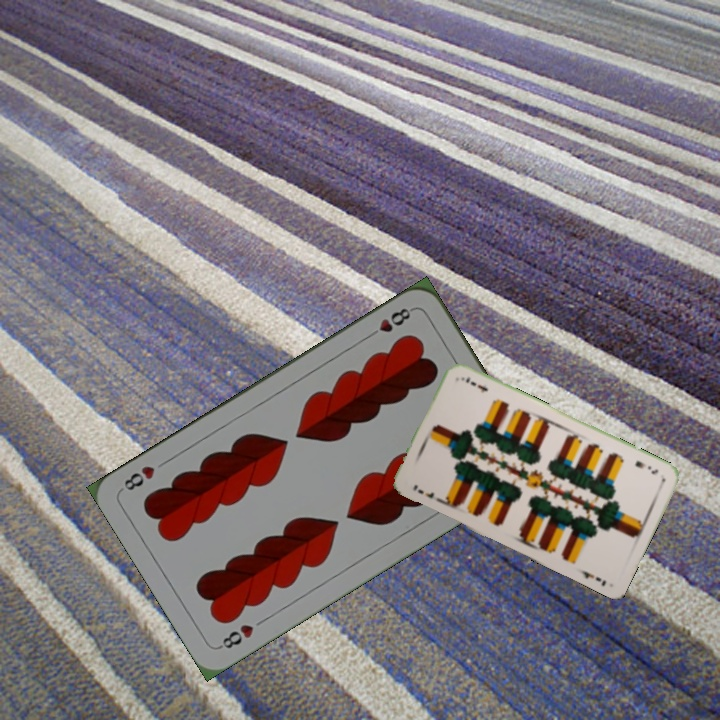E7: (631, 456, 661, 477), (409, 480, 437, 501)
H8: (363, 303, 417, 341), (215, 620, 256, 652)
